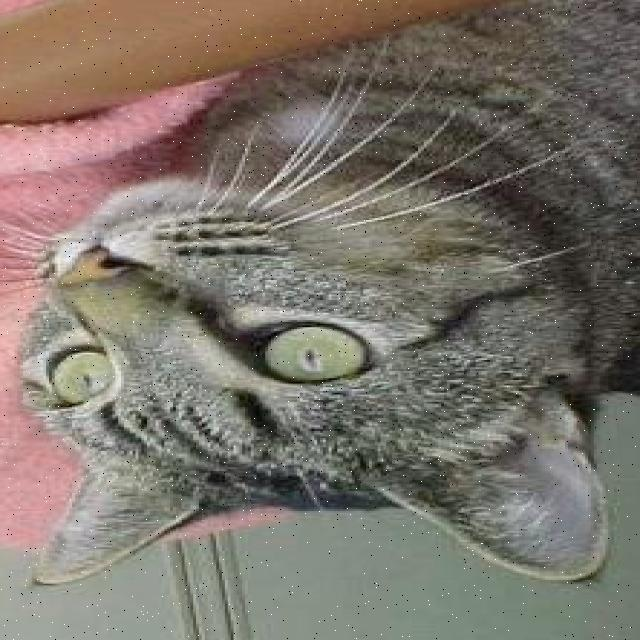Cat: (0, 145, 626, 600)
